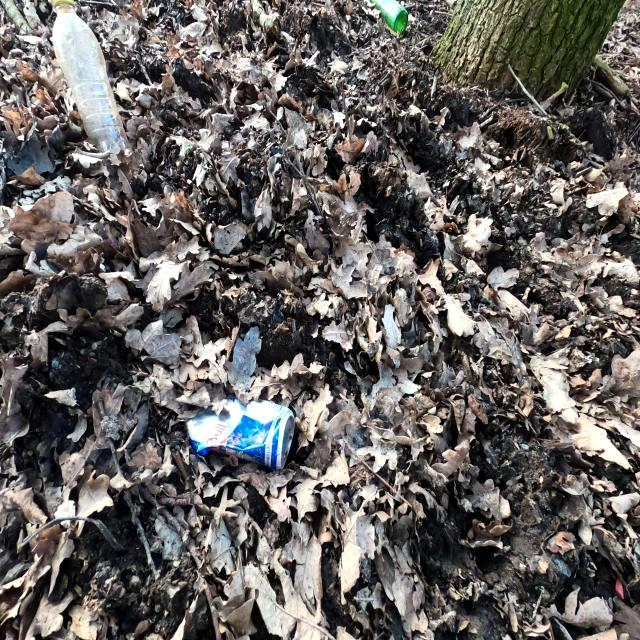Metal: (181, 388, 297, 474)
